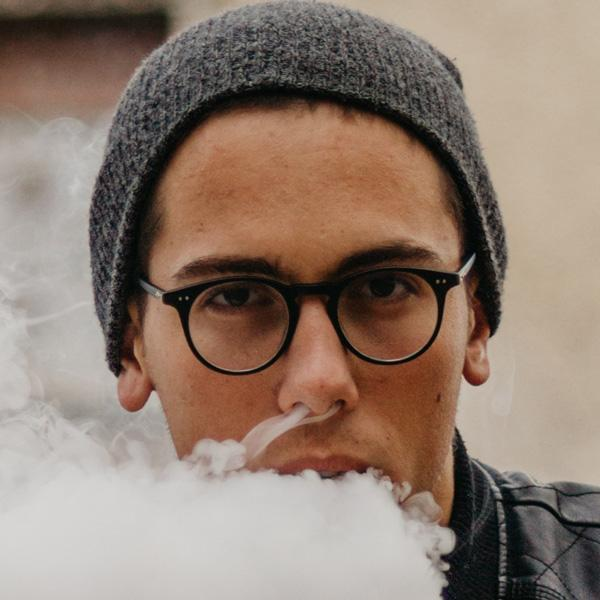Eyes: (197, 266, 281, 324), (346, 260, 425, 315)
